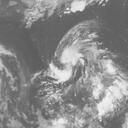cyclone: (41, 30, 124, 112)
